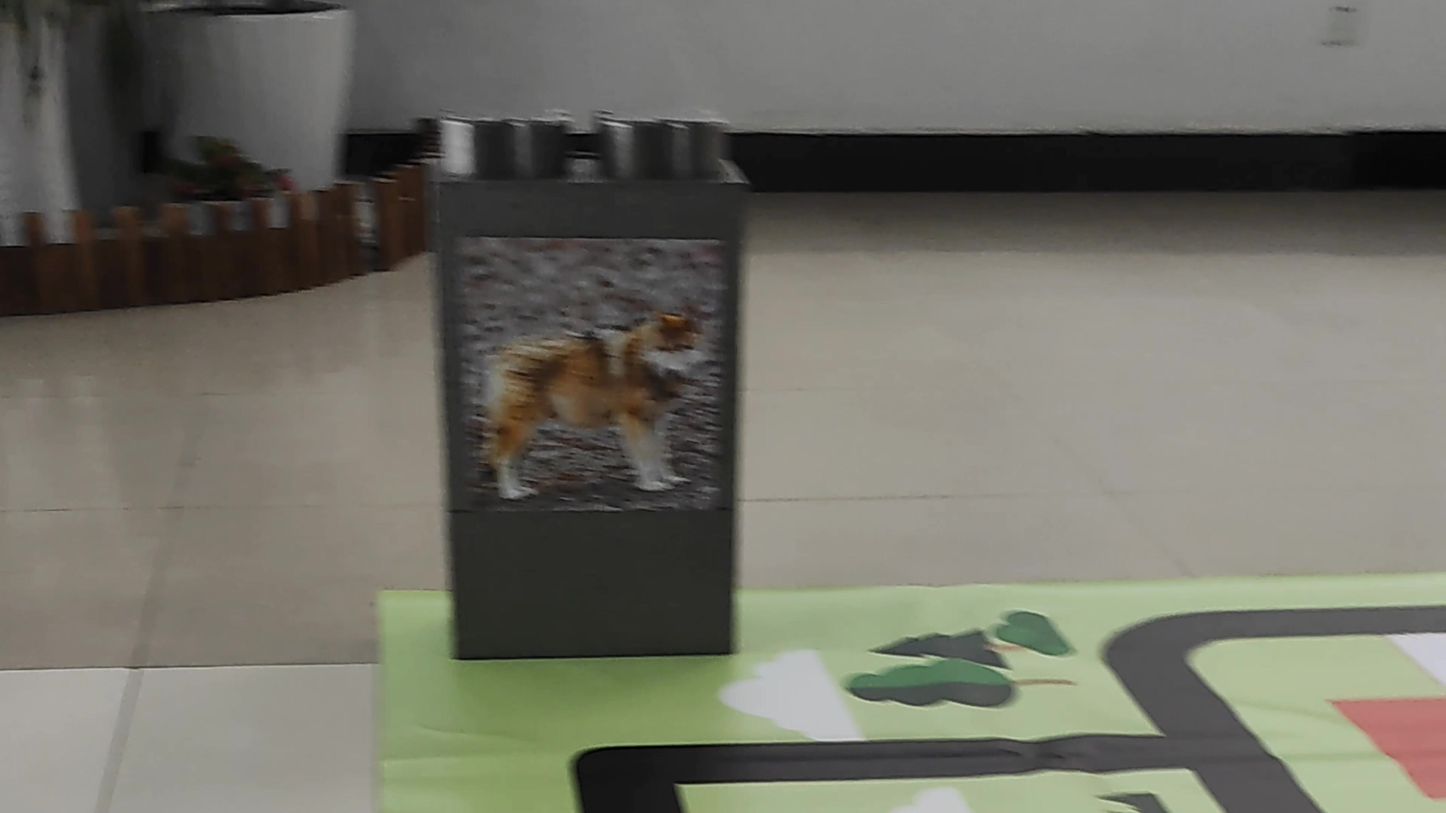wolf: (466, 279, 717, 514)
